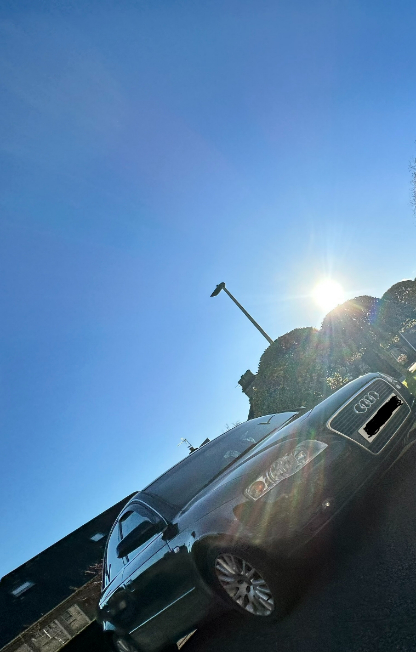car: (40, 369, 416, 649)
tree: (354, 274, 416, 359)
